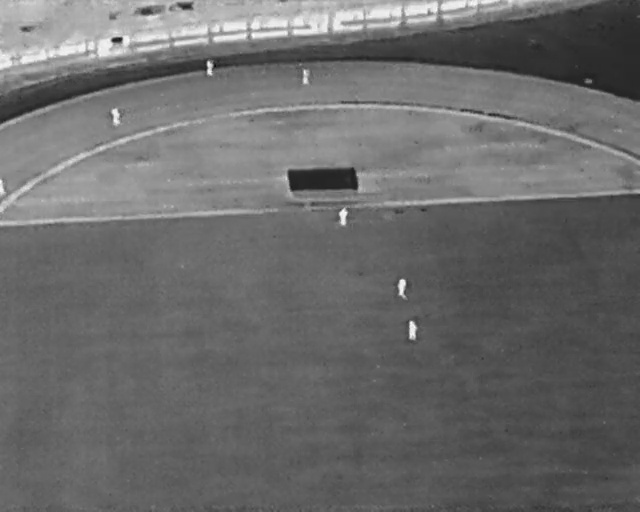Person: (396, 278, 409, 300), (408, 320, 418, 341), (110, 107, 121, 126), (339, 207, 349, 227), (301, 68, 311, 85), (206, 60, 214, 77), (0, 178, 6, 196)
